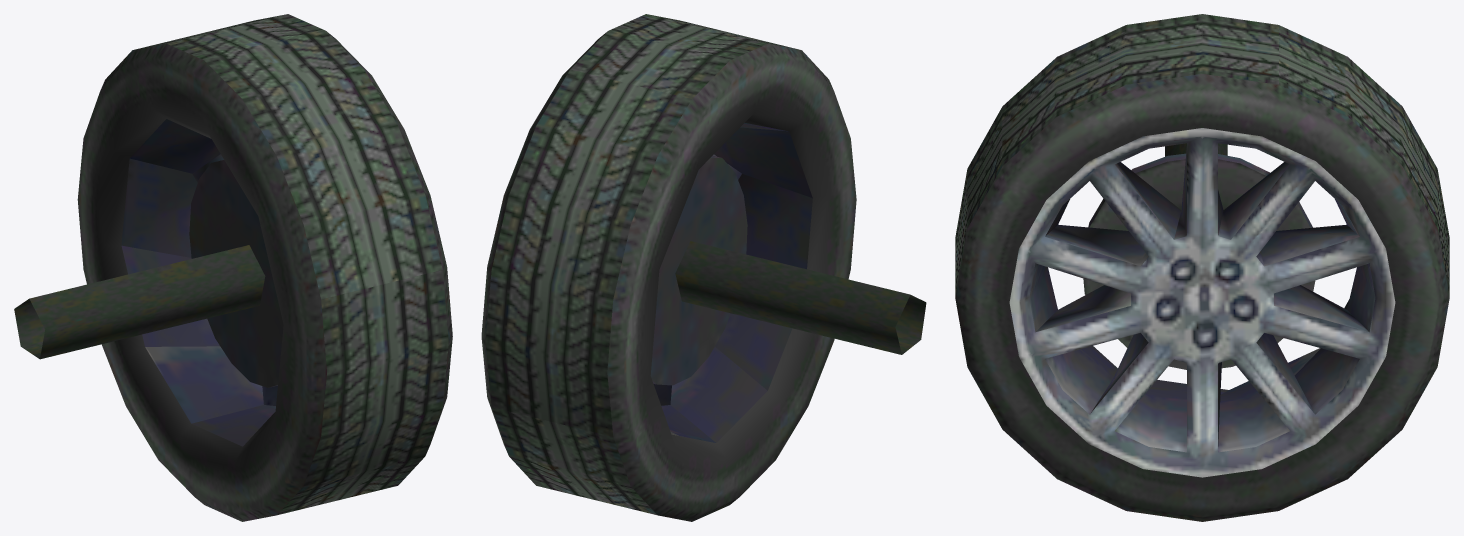
The model's file is wheelBL.dae.
The picture shows the model from 3 angles, left to right: view 1: azimuth 30°, elevation 25°; view 2: azimuth 150°, elevation 25°; view 3: azimuth 270°, elevation 25°; orthographic projection.
Visible parts, largest first — view 1: lincoln_exterior; view 2: lincoln_exterior; view 3: lincoln_exterior.
Part boxes in pixels (box(x1,y1,x2,y2)): lincoln_exterior: box(14, 14, 452, 521); lincoln_exterior: box(481, 14, 926, 521); lincoln_exterior: box(955, 14, 1449, 521).
Size of the model in its own units: 1.09 by 1.5 by 1.5.
Materials: 1 (1 with a texture image).
